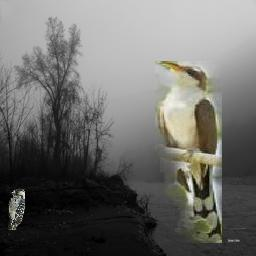Cuckoo: (156, 61, 223, 243)
Woodpecker: (9, 188, 26, 230)
